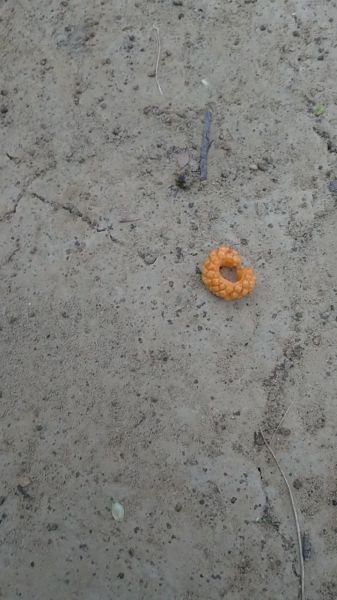eggs: (200, 239, 261, 304)
